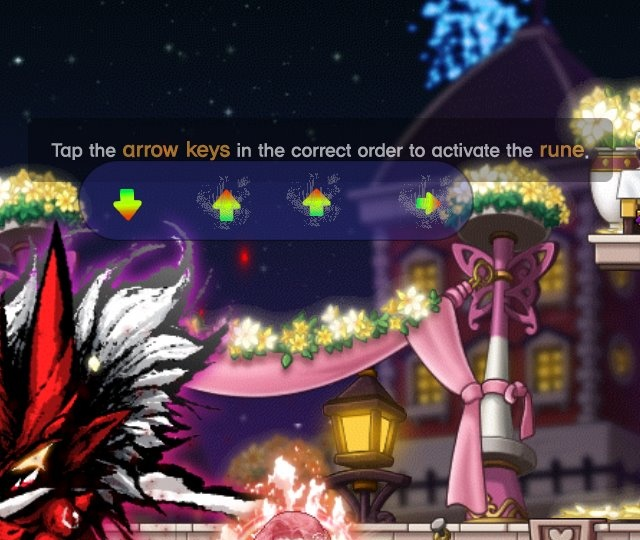rune_box: (65, 151, 492, 246)
